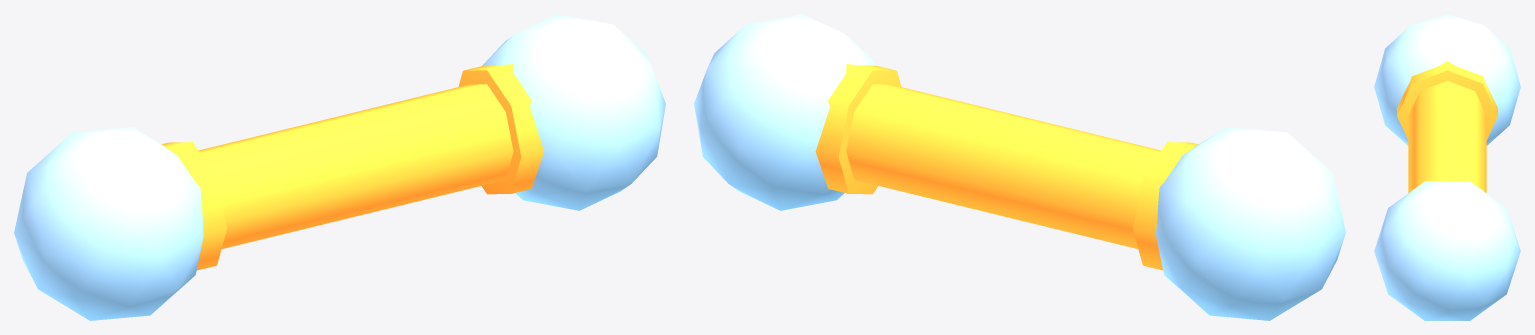
The model's file is gold_and_steel_guard_024.glb.
The picture shows the model from 3 angles, left to right: view 1: azimuth 30°, elevation 25°; view 2: azimuth 150°, elevation 25°; view 3: azimuth 270°, elevation 25°; orthographic projection. The views are drawn at different scales.
Visible parts, largest first — view 1: gold_and_steel_guard_024; view 2: gold_and_steel_guard_024; view 3: gold_and_steel_guard_024.
Part boxes in pixels (x1,y1,x2,y2): gold_and_steel_guard_024: [14, 14, 665, 320]; gold_and_steel_guard_024: [694, 14, 1345, 320]; gold_and_steel_guard_024: [1374, 14, 1520, 320].
Size of the model in its own units: 7.5 by 2.08 by 2.08.
Materials: 1 (1 with a texture image).
